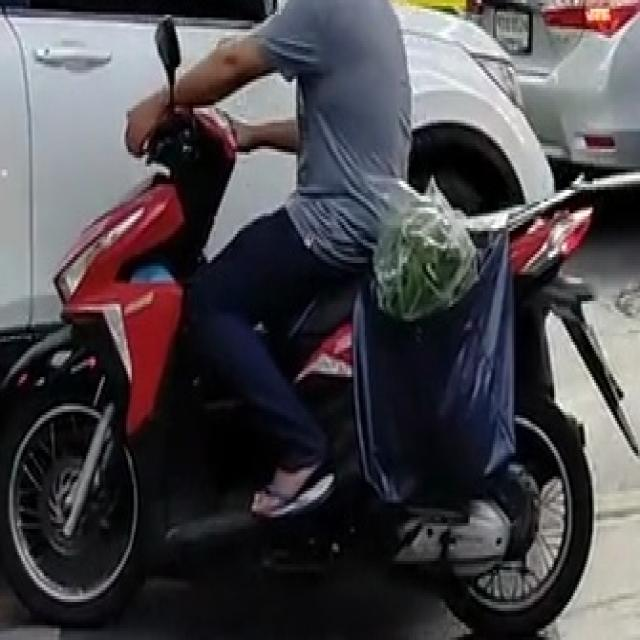door: (2, 12, 288, 327)
helmet: (145, 102, 237, 252)
tyre: (451, 392, 594, 634)
